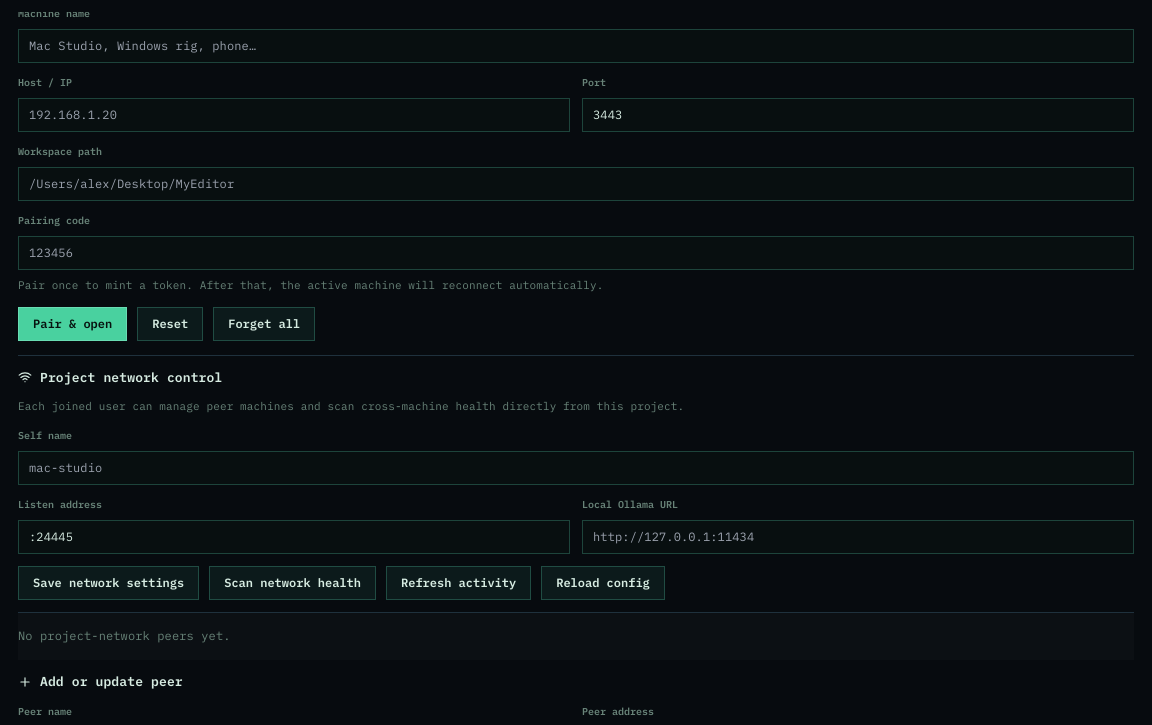
Test: MachineConnectionsPanel workflows › RuntimePairingFailure_FailureShown
The image size is (1152, 725).
(page scrolled)
Type "10.0.0.2" into the field with placeholder "192.168.1.20" at (294, 115), box 18,98 -> 570,132
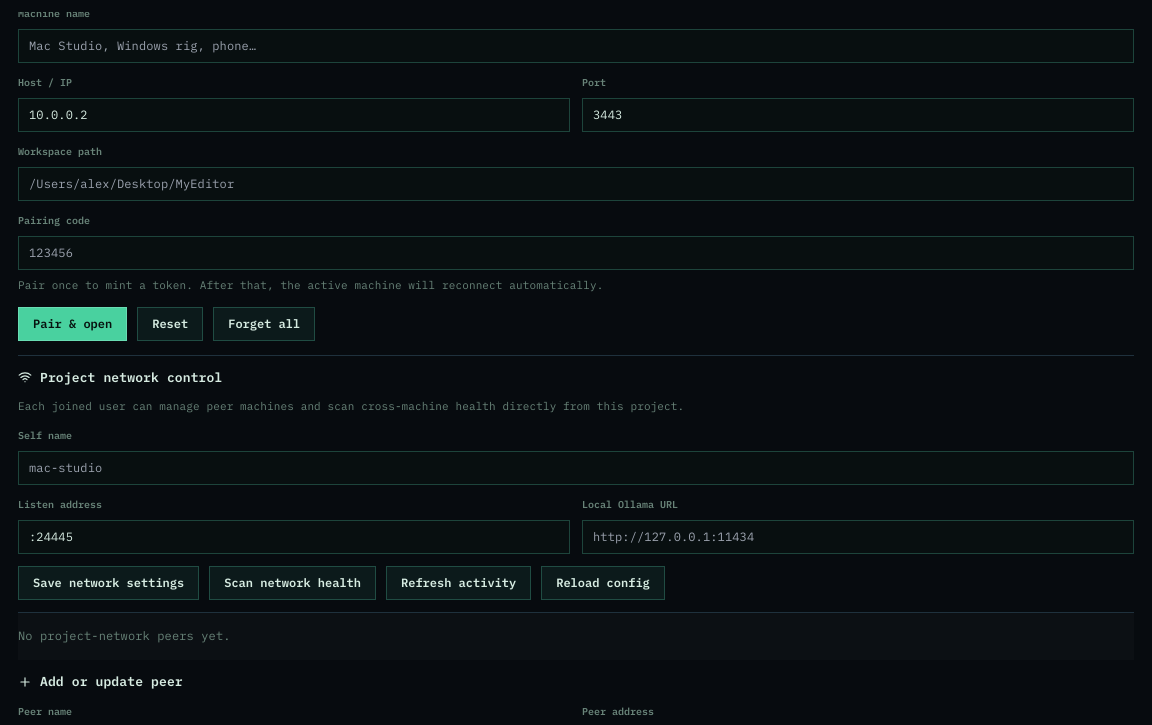
Type "/Users/alex/project" into the field with placeholder "/Users/alex/Desktop/MyEditor" at (576, 184), box 18,167 -> 1134,201
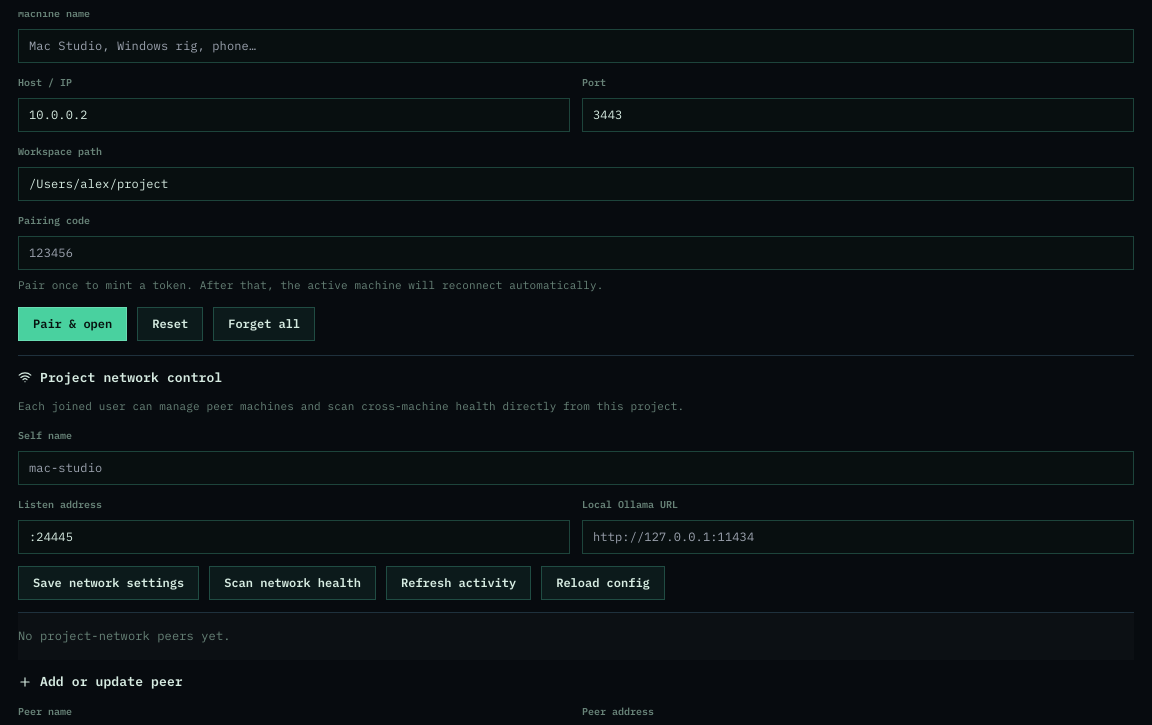
Type "654321" into the field with placeholder "123456" at (576, 253), box 18,236 -> 1134,270
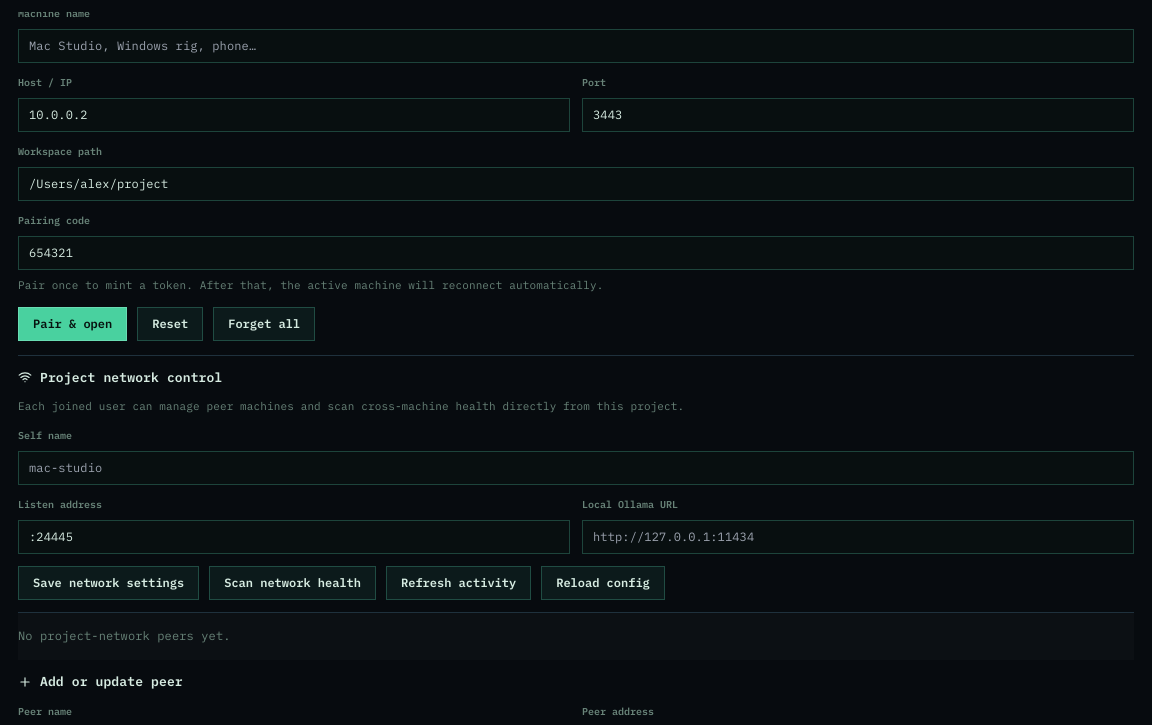
Click the button "Pair & open" at (73, 324), box 18,307 -> 127,341
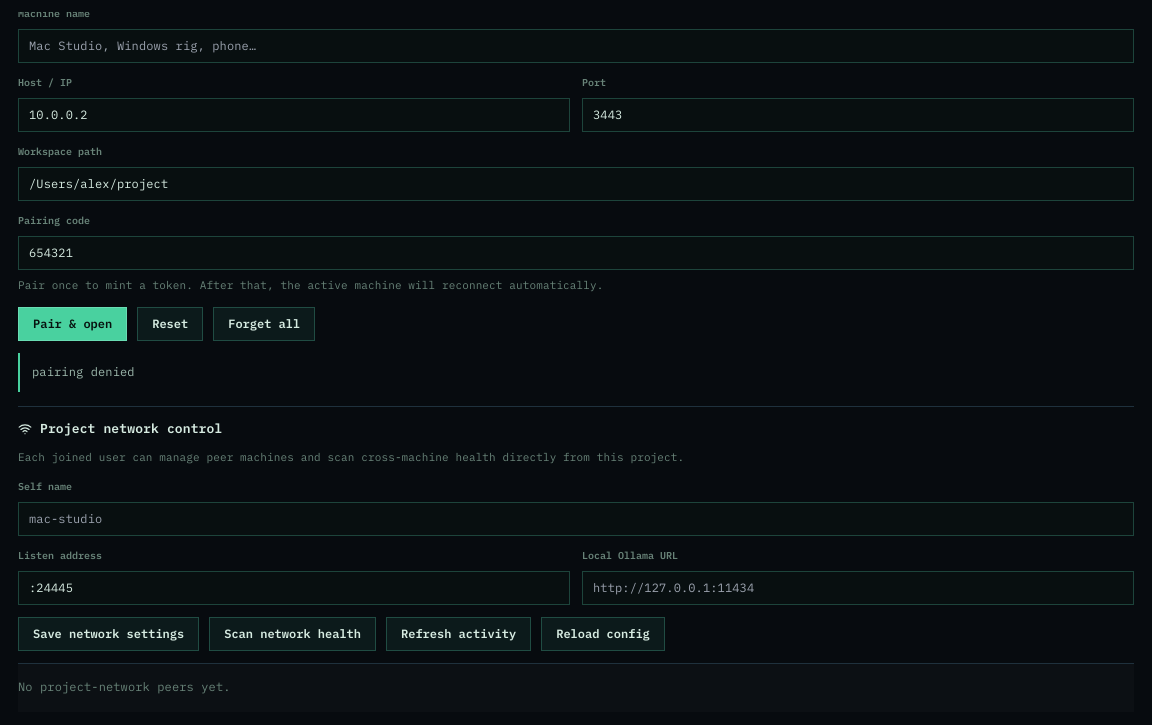
expect the text "pairing denied" is shown: met, box 18,353 -> 1134,392
